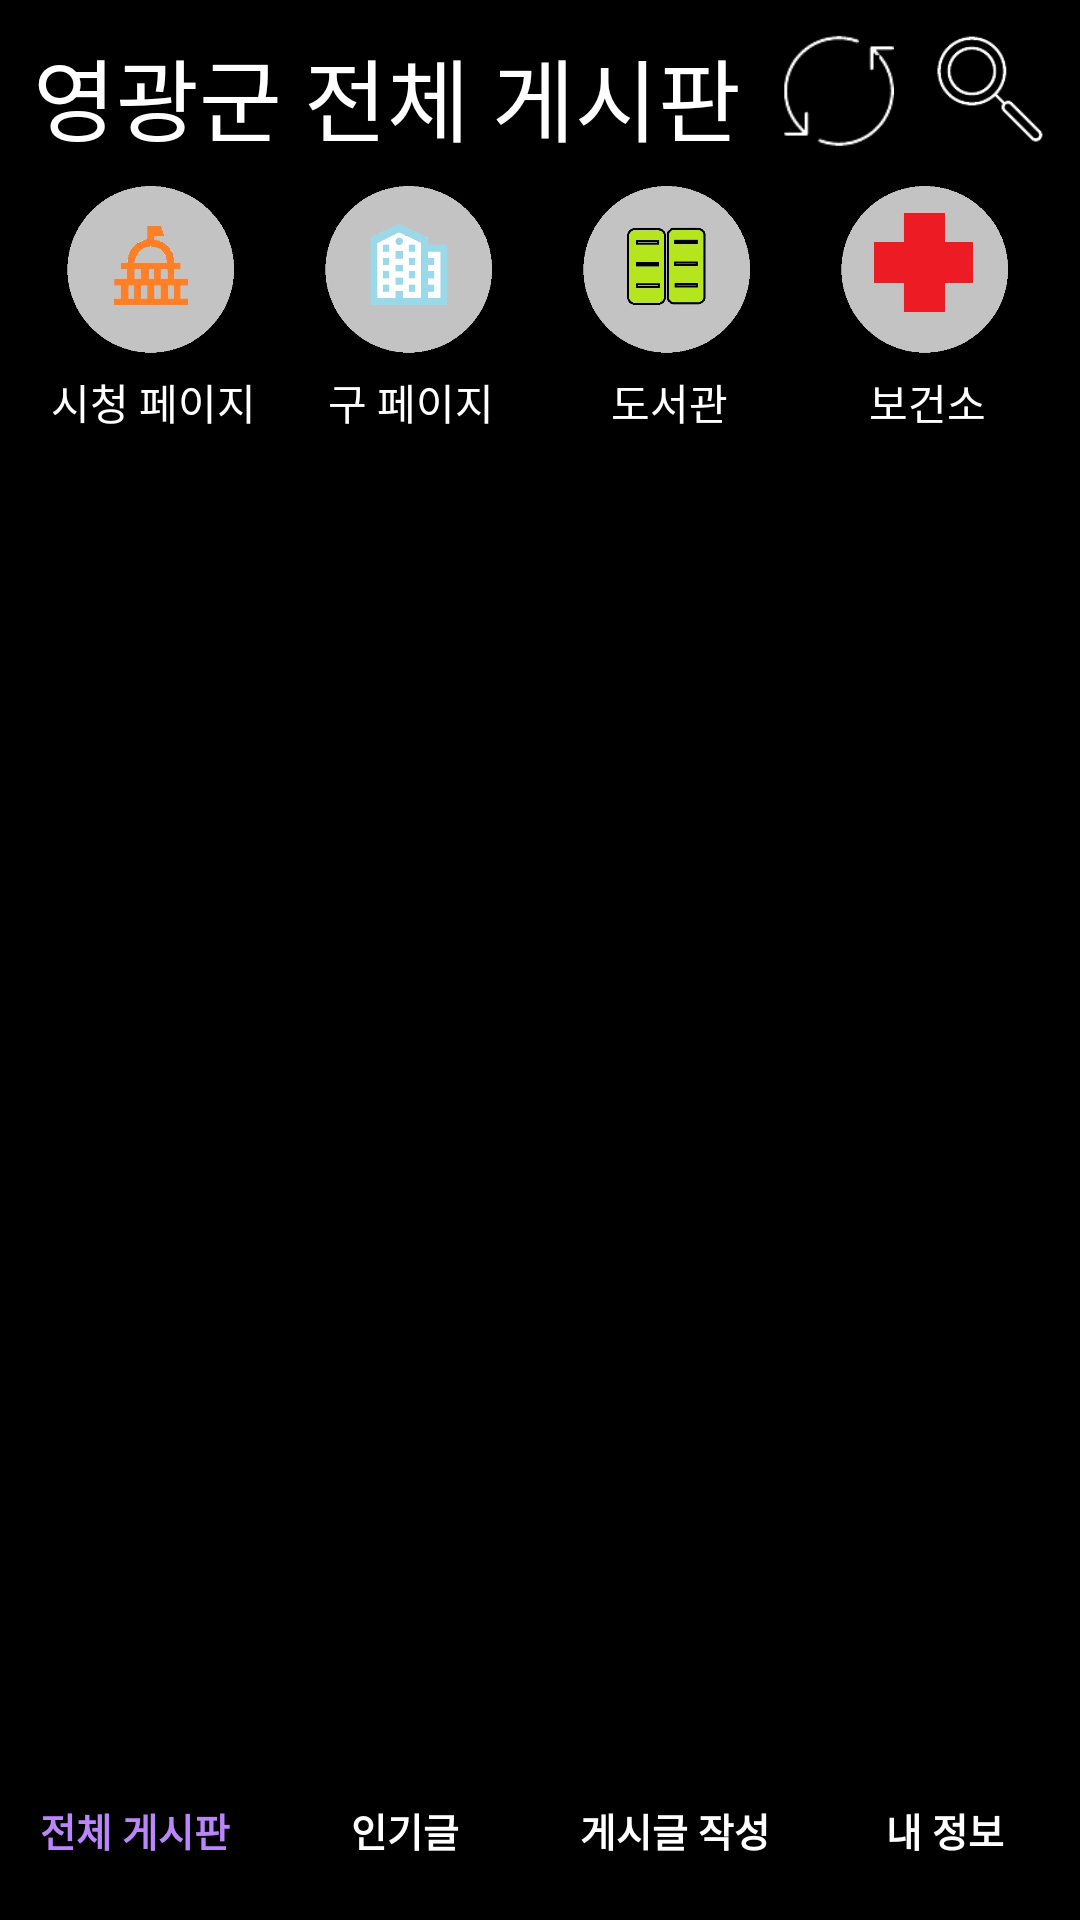

Icon bounding boxes for this 1080*1920 phone screenshot, format (x1, y1, x2, y2):
refresh: (784, 36, 894, 146)
search: (937, 36, 1043, 142)
